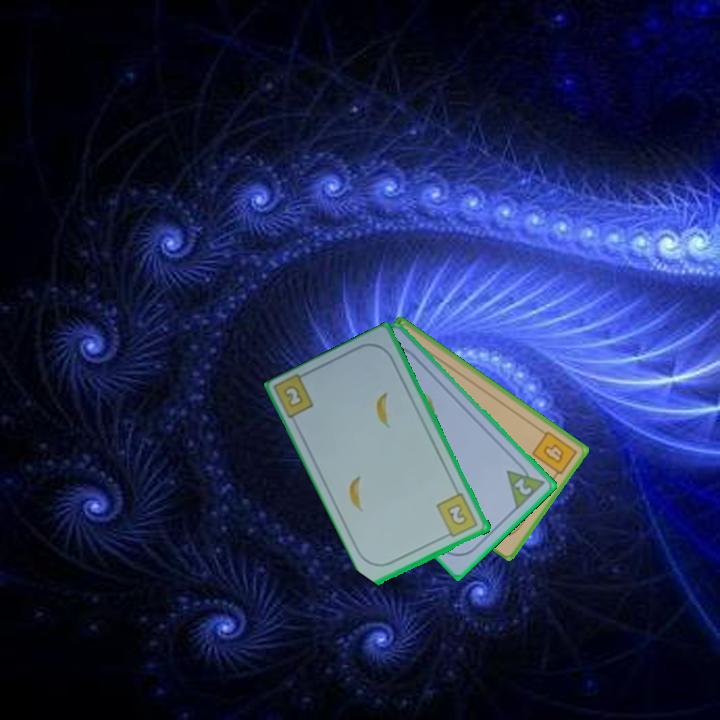2b: (433, 490, 481, 541), (280, 382, 307, 411)
2p: (511, 474, 535, 498)
4b: (528, 427, 580, 482)
